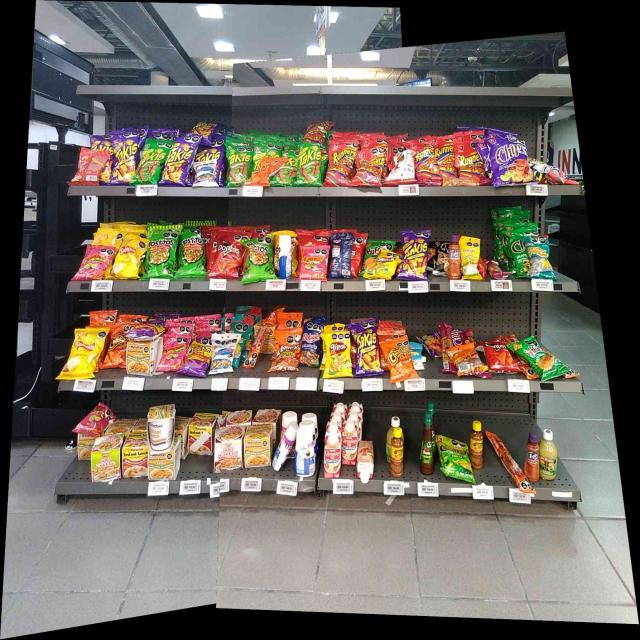bitzAlmendras: (413, 343, 424, 369)
bitzEnchilado95: (490, 432, 522, 479), (248, 326, 262, 367)
bitzHabanero: (420, 177, 490, 186), (442, 322, 452, 370), (488, 259, 503, 279)
bokadosCacahuates: (302, 321, 319, 366)
botaneraChilito: (392, 428, 404, 476), (472, 420, 484, 467)
cheetosFlaminHot: (189, 338, 209, 375)
cheetosOriginal: (387, 340, 413, 378), (109, 323, 125, 368), (254, 158, 276, 186)
chipsFuego: (493, 140, 529, 183)
chipsJalapeno: (512, 232, 528, 276)
chipsPapatinas: (440, 437, 469, 476)
churrumais: (301, 246, 327, 279), (83, 246, 109, 279), (82, 404, 108, 435), (162, 336, 183, 370)
delPrimoSalsa: (540, 429, 558, 479)
doritosNacho: (217, 232, 241, 277), (486, 341, 510, 369)
fritosLimon: (325, 334, 350, 377), (379, 252, 397, 278)
leoCacahuates: (213, 336, 232, 371), (195, 162, 214, 186)
leoMix: (274, 330, 298, 372)
maruchanPollo: (148, 406, 174, 450), (246, 426, 271, 467), (128, 341, 155, 375), (149, 452, 179, 479)
maruchanRes: (123, 435, 146, 476), (191, 414, 213, 455)
nestleCarnation: (324, 434, 341, 478), (342, 420, 356, 466), (358, 442, 373, 479)
nestleLechera: (296, 430, 315, 475), (275, 426, 291, 471), (279, 235, 293, 278)
nissinCamaron: (94, 437, 120, 480)
nissinRes: (217, 428, 243, 469)
productoAtras: (331, 233, 350, 278), (78, 151, 101, 185), (392, 151, 415, 183), (456, 348, 480, 371)
rufflesQueso: (519, 339, 558, 370), (364, 242, 378, 264)
runners: (457, 135, 483, 175), (329, 143, 352, 184), (357, 151, 382, 185), (418, 143, 438, 175), (440, 138, 456, 176), (307, 122, 326, 142)
sabritasOriginal: (74, 330, 97, 376), (118, 238, 142, 278)
salsaBufalo: (420, 411, 434, 475)
semillasCalabaza: (461, 238, 479, 279)
semillasGirasol: (530, 238, 550, 278)
tajinDulce: (527, 432, 539, 476), (449, 234, 460, 280)
takisFuego: (401, 230, 427, 280), (356, 322, 377, 376), (112, 132, 134, 182), (169, 140, 190, 186), (192, 122, 218, 140)
takisOriginal: (228, 144, 251, 184), (139, 142, 161, 183), (298, 145, 320, 186)
tostitos: (149, 229, 174, 278), (180, 231, 206, 277), (245, 239, 272, 280)
